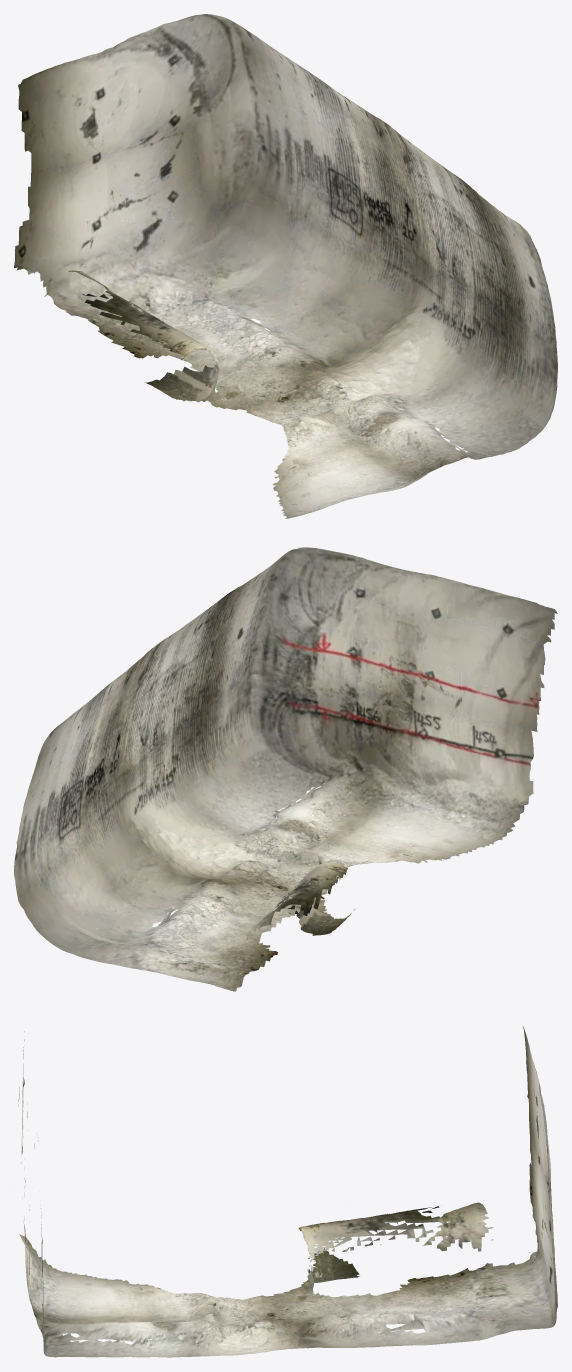
File: lidar scan Oct 12.glb
3 renders of one model, top to bottom at view 1: azimuth 30°, elevation 25°; view 2: azimuth 150°, elevation 25°; view 3: azimuth 270°, elevation 25°, orthographic. The views are drawn at different scales.
Visible parts, largest first — view 1: Mesh_0; view 2: Mesh_0; view 3: Mesh_0.
Part boxes in pixels (box(x1,y1,x2,y2)): Mesh_0: box(14, 14, 557, 518); Mesh_0: box(14, 547, 557, 991); Mesh_0: box(18, 1026, 557, 1357).
Bounding box in the file's own units: 5.24 × 4.42 × 8.56.
1 material, 1 textured.
